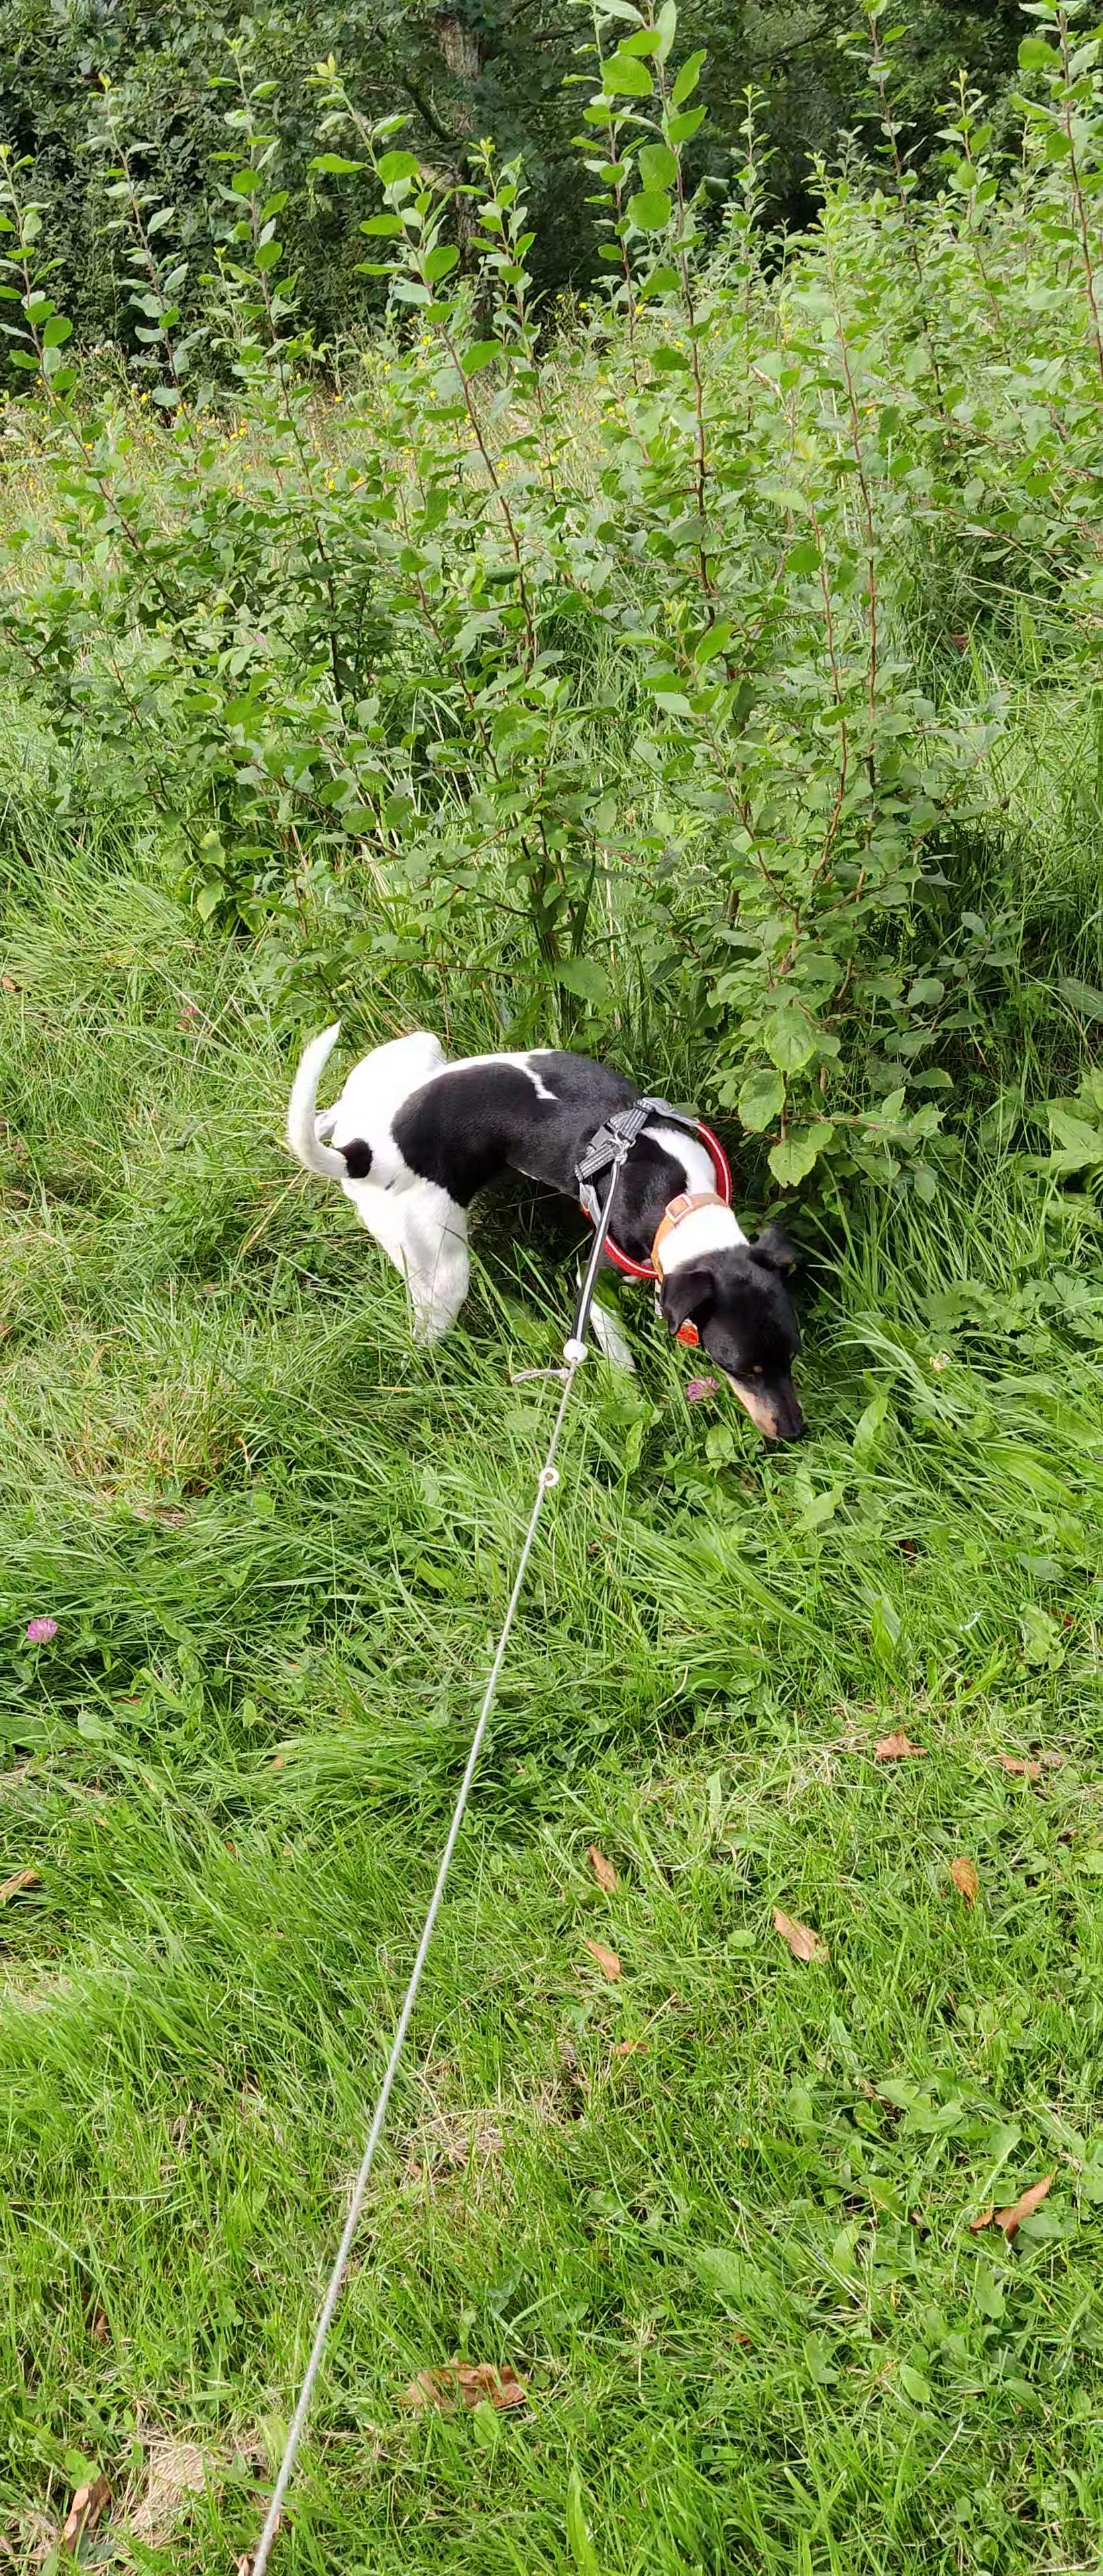Dog: (281, 1005, 814, 1446)
